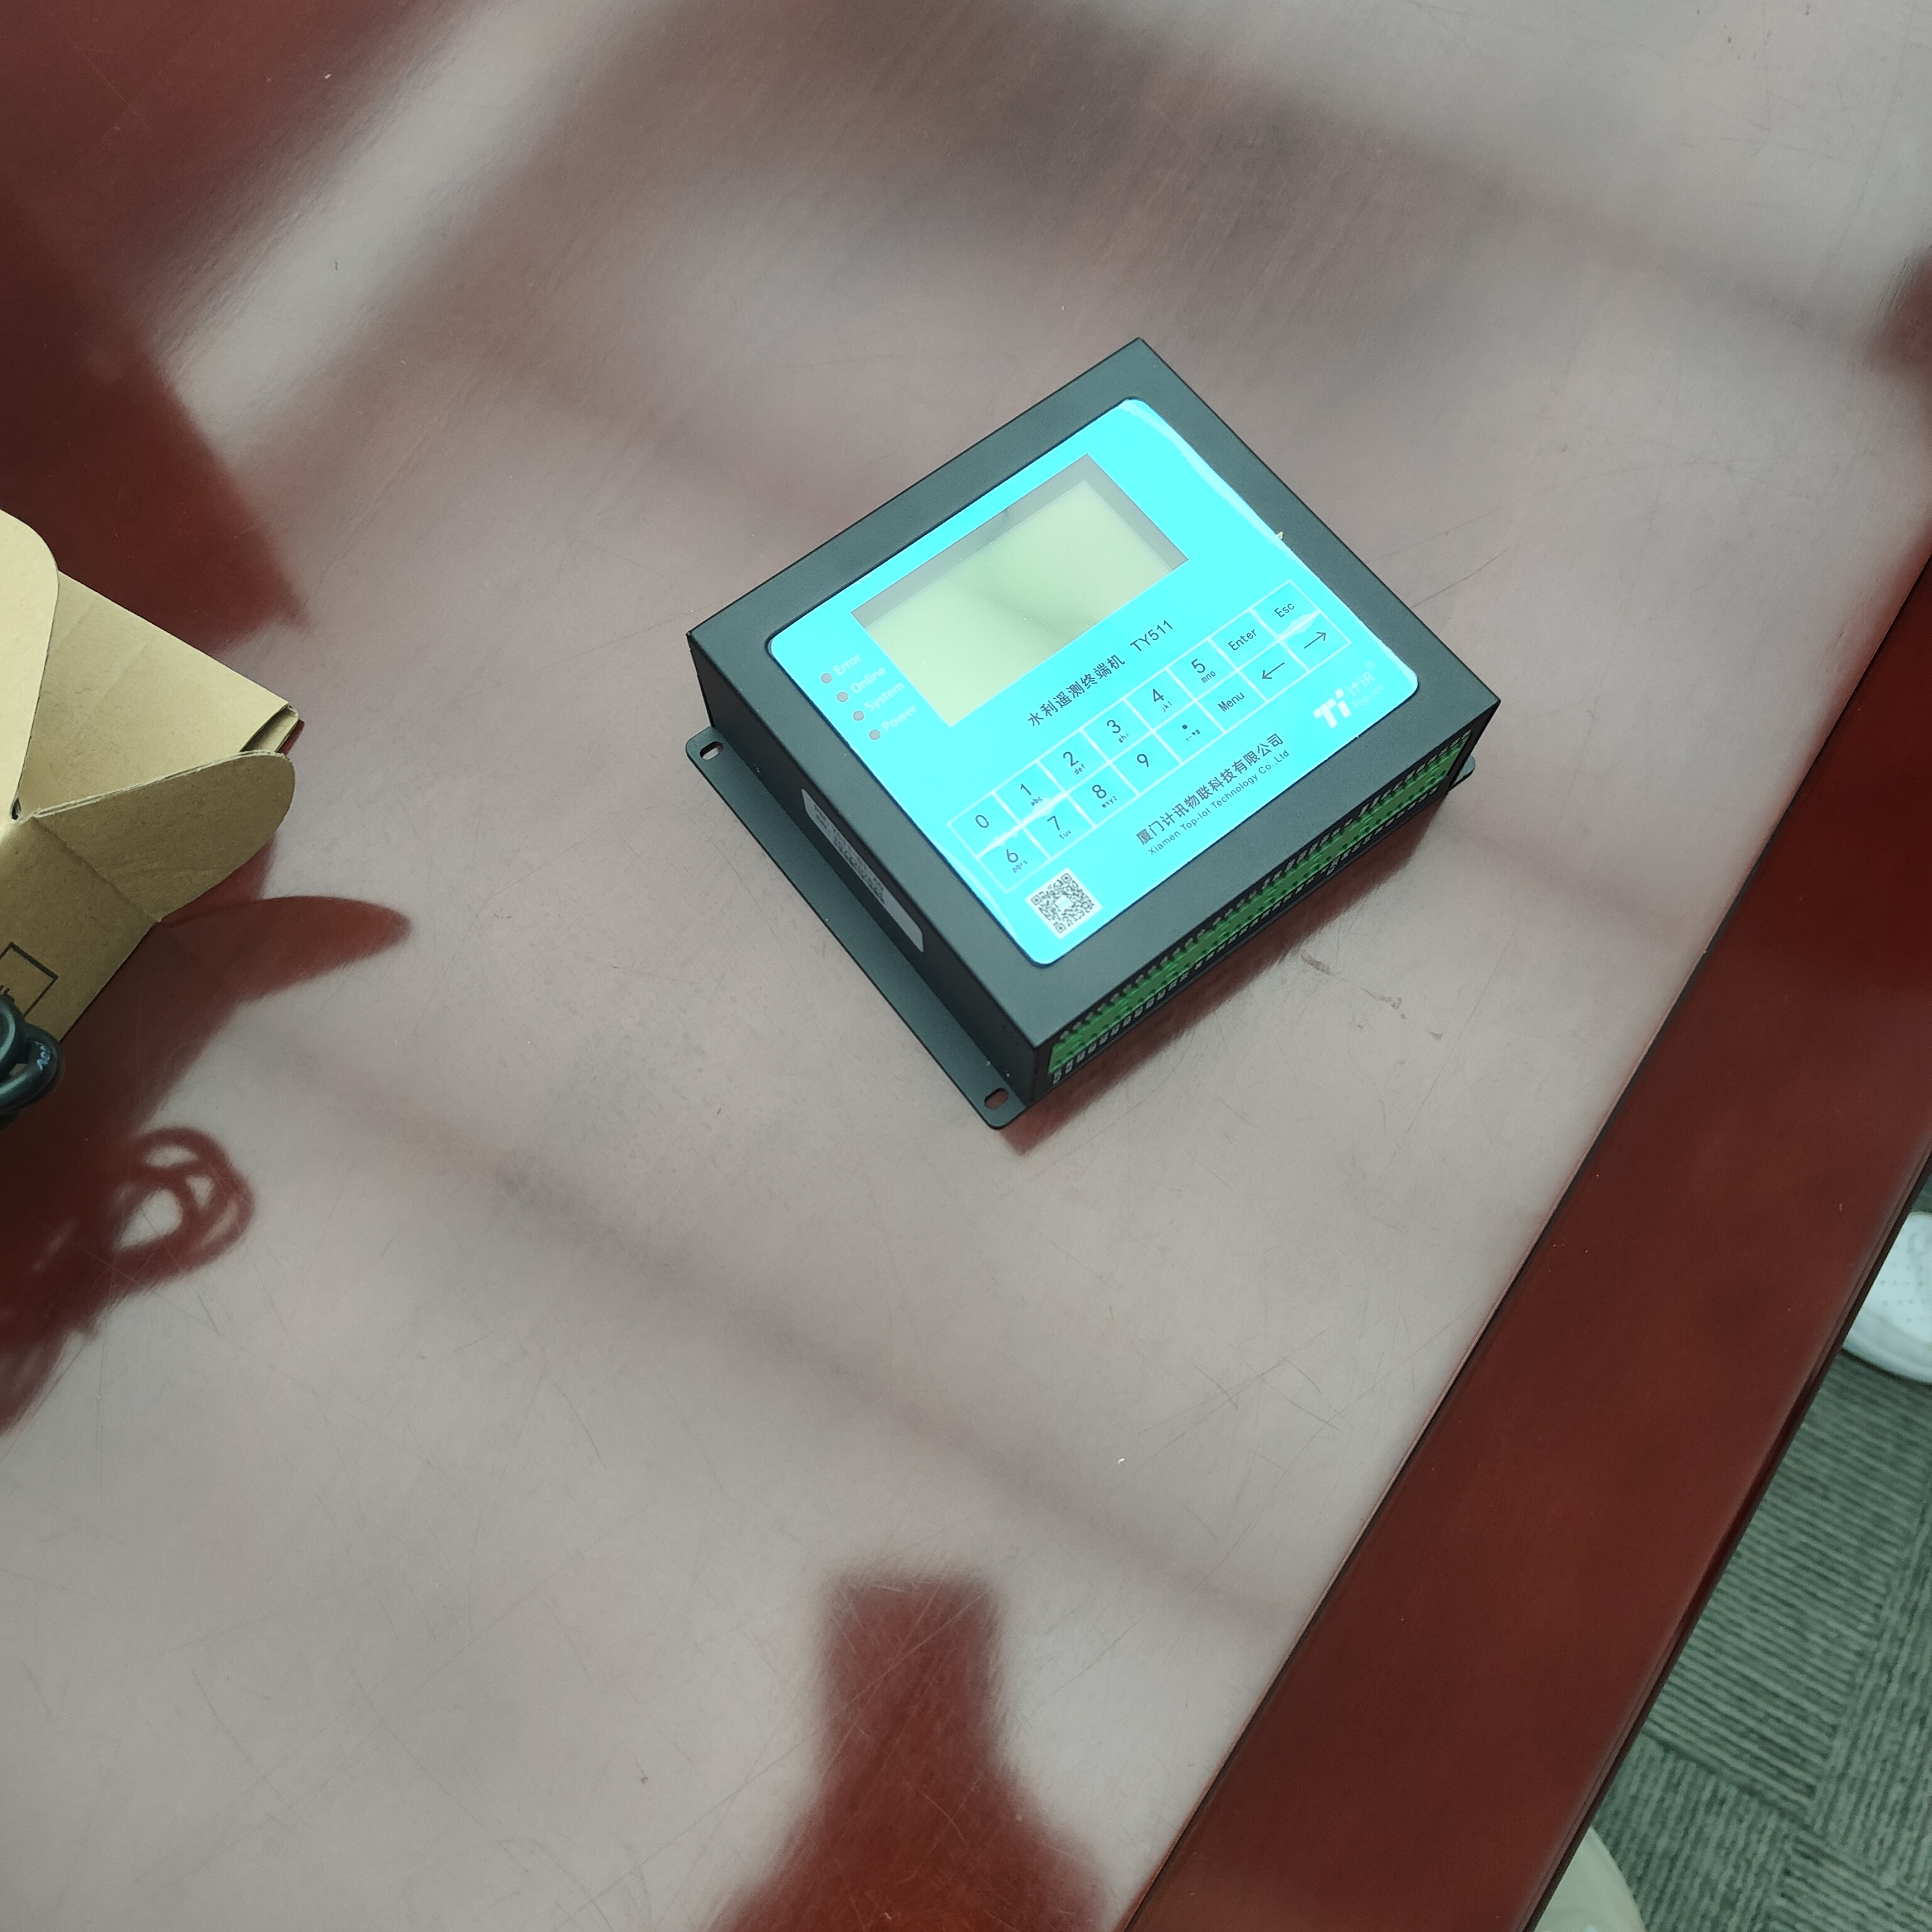slyczd: (678, 347, 1504, 1154)
